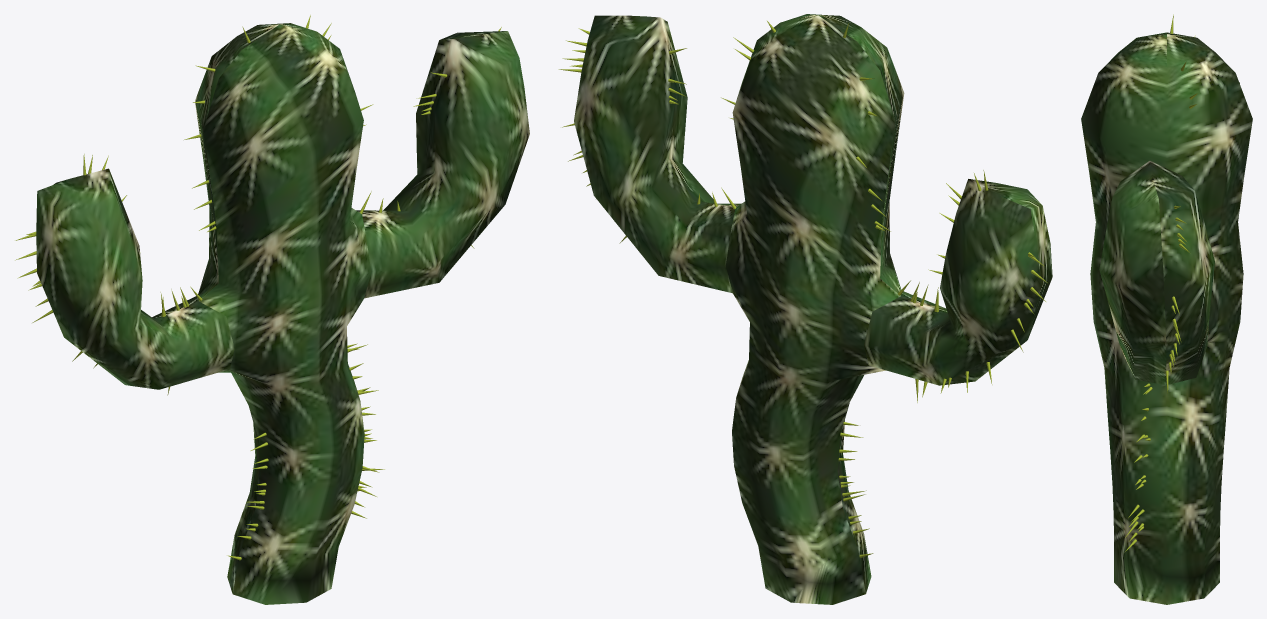
File: Cactus.fbx
The picture shows the model from 3 angles, left to right: view 1: azimuth 30°, elevation 25°; view 2: azimuth 150°, elevation 25°; view 3: azimuth 270°, elevation 25°; orthographic projection. The views are drawn at different scales.
Parts seen in each view (by area): view 1: Cactus, defaultBrush24Main; view 2: Cactus, defaultBrush24Main; view 3: Cactus, defaultBrush24Main.
Part boxes in pixels (x1,y1,x2,y2): Cactus: [36, 23, 529, 604]; defaultBrush24Main: [15, 15, 501, 560]; Cactus: [574, 14, 1052, 604]; defaultBrush24Main: [558, 21, 1047, 557]; Cactus: [1081, 32, 1252, 604]; defaultBrush24Main: [1125, 14, 1197, 551].
Bounding box in the file's own units: 5.36 × 5.84 × 1.65.
